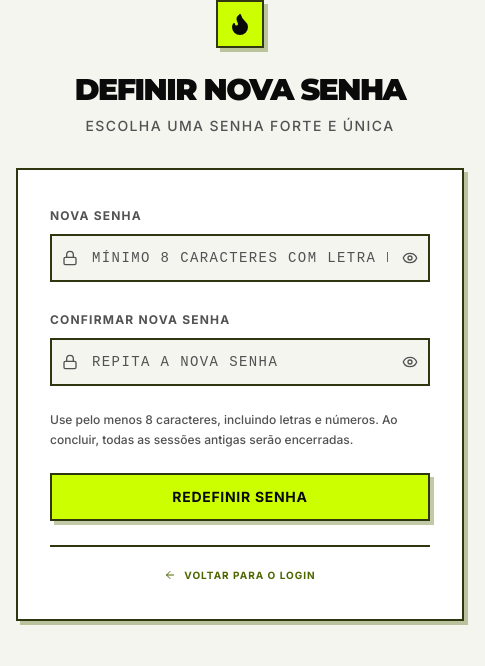
ResetPasswordPage (BL-05) › valida a confirmação da nova senha
The width and height of the screenshot is (485, 666).
Type "novaSenha123" into the password field labelled "Nova senha" at (240, 258), box x1=50 y1=234 x2=430 y2=282
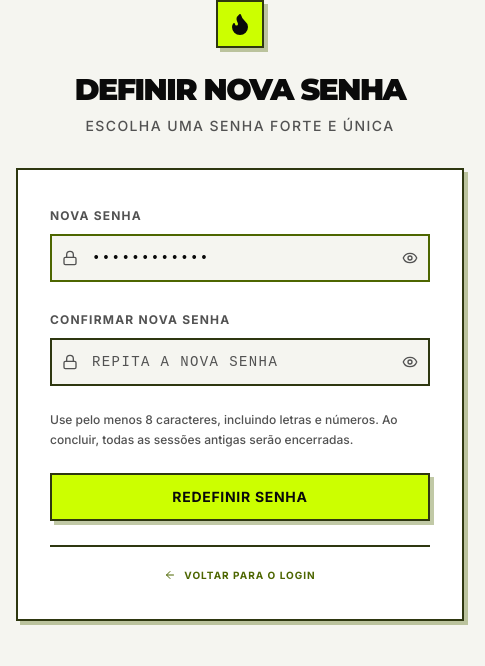
Type "outraSenha123" into the password field labelled "Confirmar nova senha" at (240, 362), box x1=50 y1=338 x2=430 y2=386
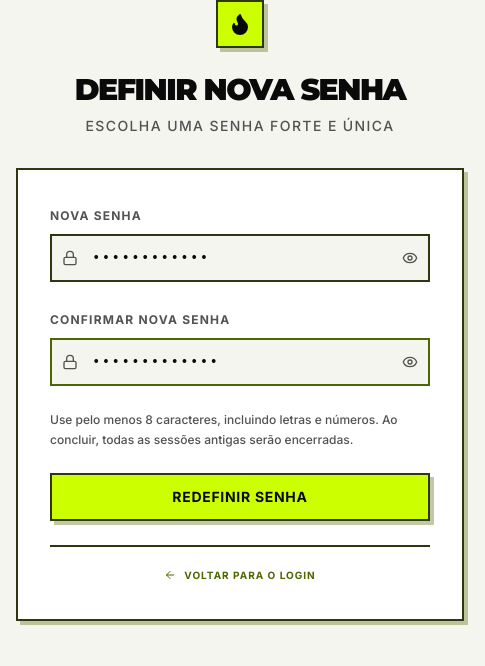
Click the button "Redefinir senha" at (240, 497), box x1=50 y1=473 x2=430 y2=521
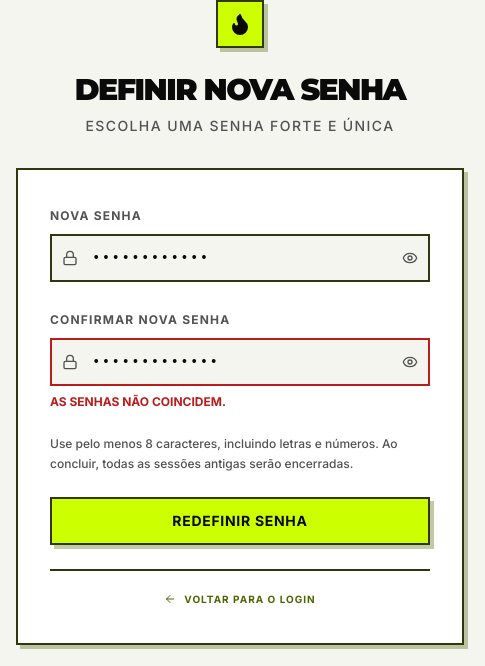
Check: the text "As senhas não coincidem." is shown, box x1=50 y1=394 x2=226 y2=409
